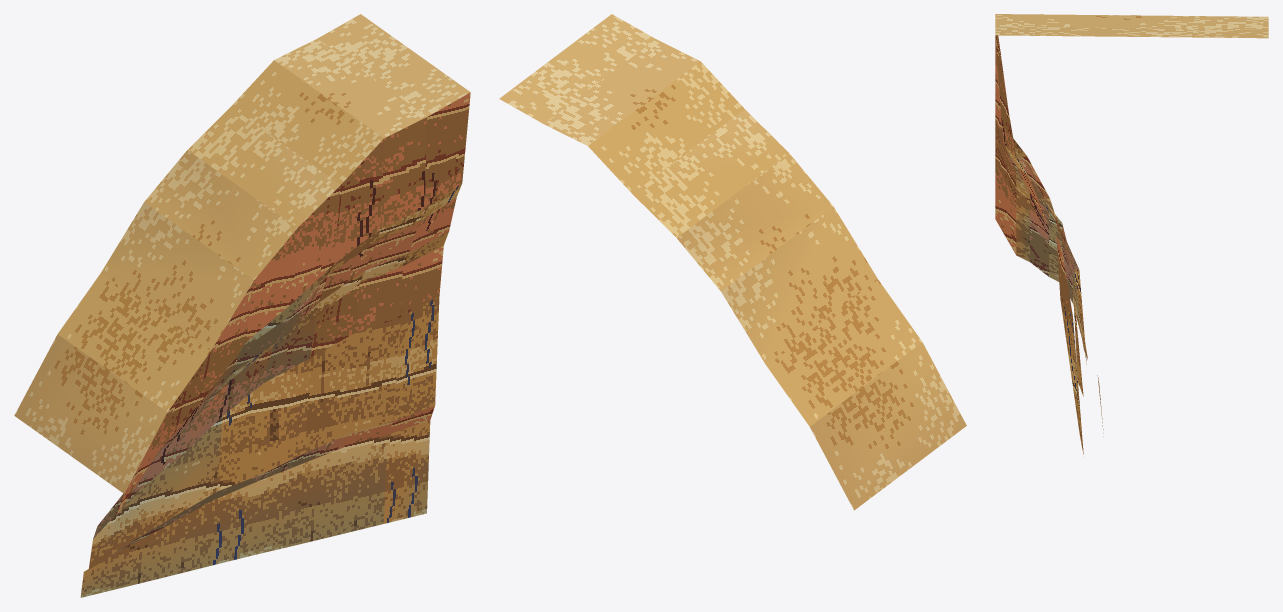
The model's file is wland.canyon_wall__end_w.glb.
The picture shows the model from 3 angles, left to right: view 1: azimuth 30°, elevation 25°; view 2: azimuth 150°, elevation 25°; view 3: azimuth 270°, elevation 25°; orthographic projection. The views are drawn at different scales.
Visible parts, largest first — view 1: kit_shell_face, kit_shell_cap; view 2: kit_shell_cap; view 3: kit_shell_face, kit_shell_cap.
Boxes of the visible parts, x1,y1,x2,y2 form: kit_shell_face: (80, 92, 470, 597); kit_shell_cap: (14, 14, 470, 493); kit_shell_cap: (499, 14, 966, 510); kit_shell_face: (995, 35, 1103, 454); kit_shell_cap: (995, 14, 1268, 38).
Bounding box in the file's own units: 8 × 10 × 4.4.
3 materials, 3 textured.
